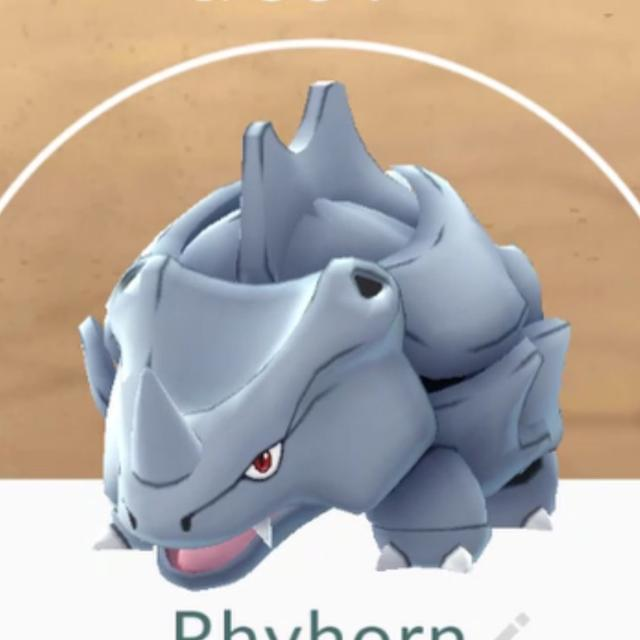Rhyhorn: (48, 69, 580, 600)
